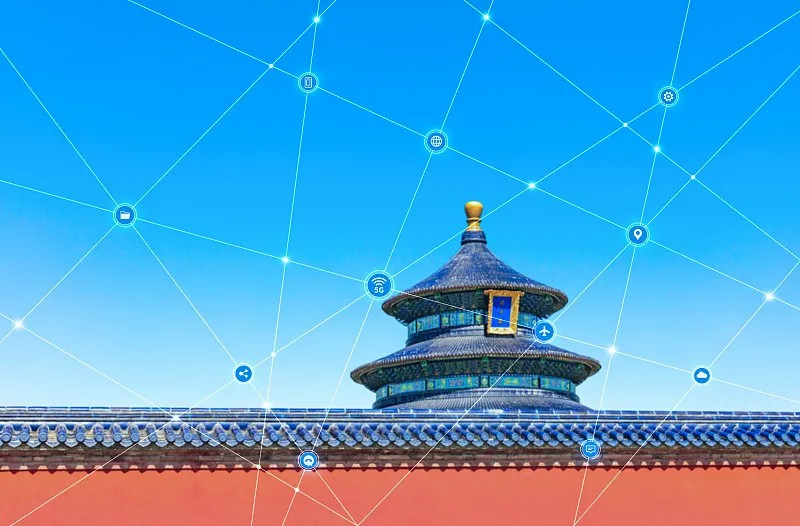Heaven: (350, 201, 602, 413)
